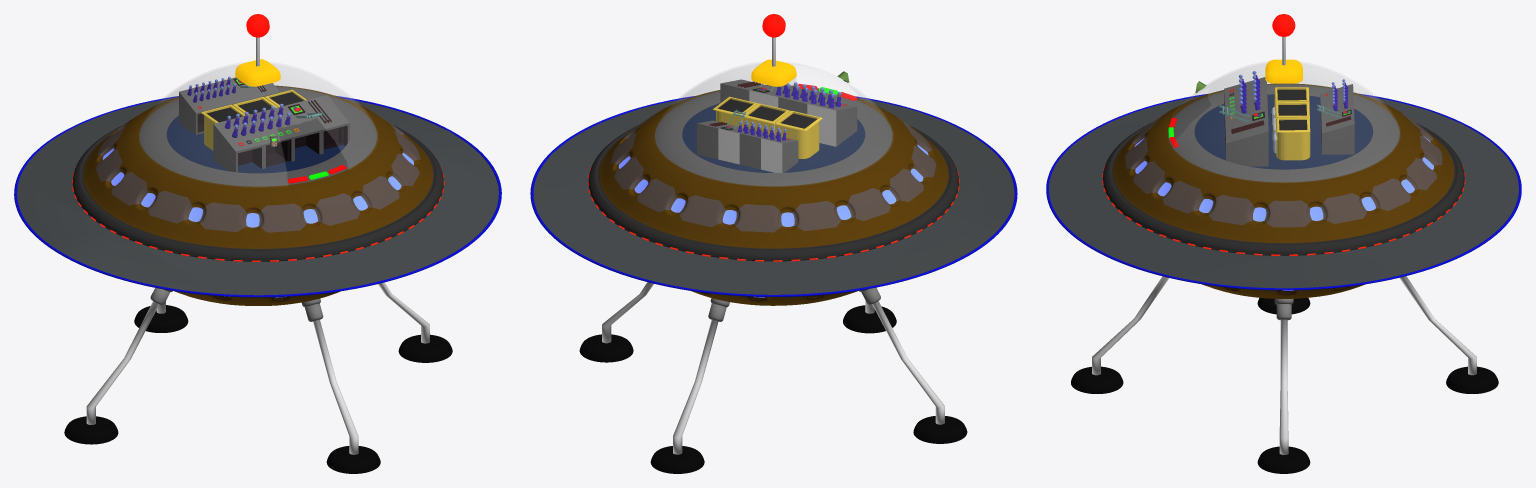
Rendered from spacecraft.glb.
The picture shows the model from 3 angles, left to right: view 1: azimuth 30°, elevation 25°; view 2: azimuth 150°, elevation 25°; view 3: azimuth 270°, elevation 25°; orthographic projection. The views are drawn at different scales.
Parts seen in each view (by area): view 1: Circle.005, Circle.000, Sphere.001, Cube.001, Circle.001, Cube.011, Sphere, Cube.005, Cylinder.002, Cylinder.001, Circle.007, Circle (+5 smaller); view 2: Circle.005, Circle.000, Sphere.001, Cube.011, Cube.001, Cube.005, Circle.001, Sphere, Cylinder.003, Cylinder.001, Circle.006, Circle.004 (+5 smaller); view 3: Circle.005, Circle.000, Sphere.001, Sphere, Cube.001, Cube.005, Circle.001, Cube.011, Cylinder.004, Circle.006, Circle.004, Circle (+5 smaller).
Boxes of the visible parts, x1,y1,x2,y2 form: Circle.005: [72, 85, 444, 261]; Circle.000: [17, 98, 498, 295]; Sphere.001: [140, 62, 375, 185]; Cube.001: [213, 95, 349, 172]; Circle.001: [14, 95, 501, 297]; Cube.011: [179, 76, 279, 134]; Sphere: [166, 115, 345, 173]; Cube.005: [201, 89, 306, 150]; Cylinder.002: [301, 298, 358, 454]; Cylinder.001: [86, 288, 172, 424]; Circle.007: [64, 416, 118, 444]; Circle: [326, 446, 380, 473]; Circle.005: [587, 85, 959, 261]; Circle.000: [533, 98, 1014, 294]; Sphere.001: [656, 62, 891, 185]; Cube.011: [697, 109, 798, 172]; Cube.001: [720, 79, 857, 146]; Cube.005: [713, 96, 822, 158]; Circle.001: [530, 95, 1017, 296]; Sphere: [682, 103, 865, 172]; Cylinder.003: [673, 298, 729, 454]; Cylinder.001: [859, 287, 944, 424]; Circle.006: [579, 334, 633, 362]; Circle.004: [650, 446, 704, 473]; Circle.005: [1102, 83, 1465, 255]; Circle.000: [1049, 96, 1518, 288]; Sphere.001: [1172, 62, 1398, 181]; Sphere: [1194, 94, 1373, 169]; Cube.001: [1219, 71, 1268, 166]; Cube.005: [1271, 87, 1310, 160]; Circle.001: [1046, 93, 1521, 290]; Cube.011: [1317, 79, 1354, 154]; Cylinder.004: [1274, 298, 1293, 454]; Circle.006: [1257, 446, 1310, 473]; Circle.004: [1446, 366, 1498, 393]; Circle: [1071, 366, 1123, 393].
Bounding box in the file's own units: 2524 × 2156 × 2524.
